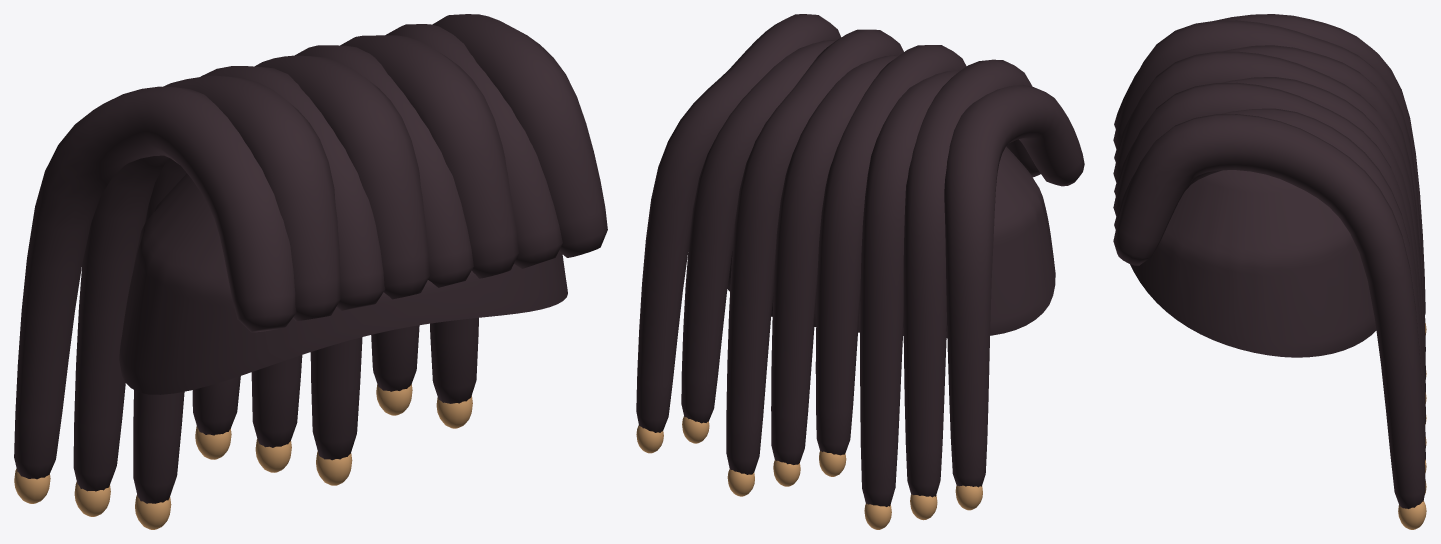
The model's file is studio_dreadlocks_long.glb.
3 views of the same model, side by side, from view 1: azimuth 30°, elevation 25°; view 2: azimuth 150°, elevation 25°; view 3: azimuth 270°, elevation 25° (orthographic). The views are drawn at different scales.
Parts seen in each view (by area): view 1: dreadlocks; view 2: dreadlocks; view 3: dreadlocks.
Part boxes in pixels (bbox=[...]): dreadlocks: bbox=[14, 14, 607, 529]; dreadlocks: bbox=[636, 14, 1084, 529]; dreadlocks: bbox=[1113, 14, 1426, 529].
Size of the model in its own units: 0.5186 by 0.5686 by 0.3956.
